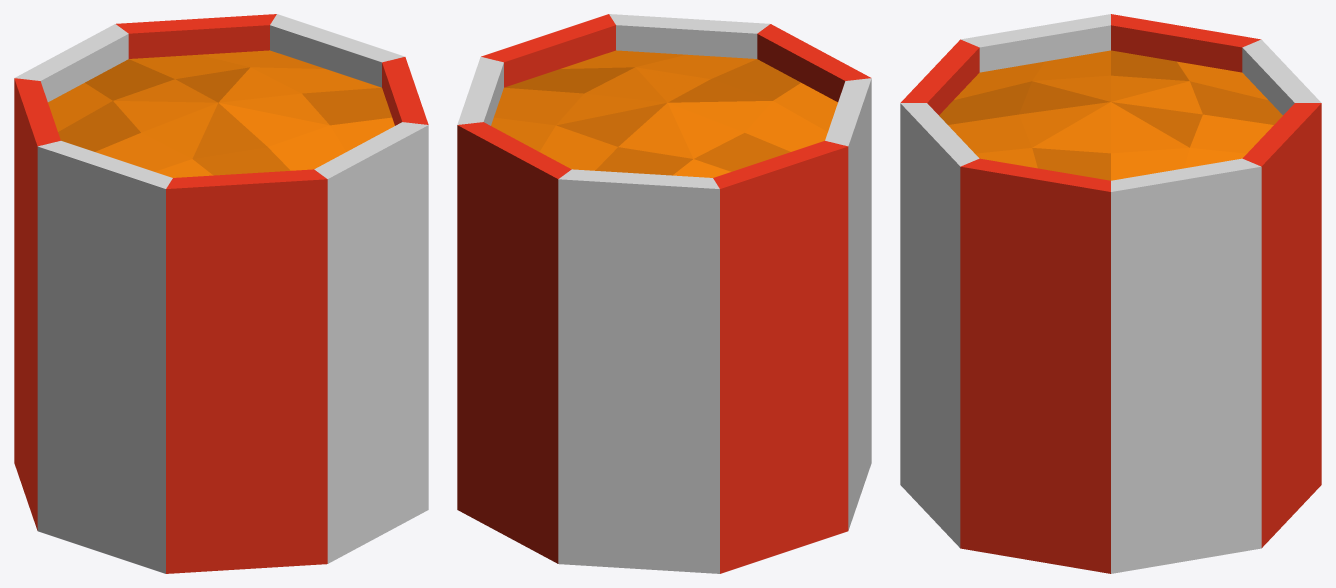
Rendered from Props_StorageRoom_FriedChicken.fbx.
The picture shows the model from 3 angles, left to right: view 1: azimuth 30°, elevation 25°; view 2: azimuth 150°, elevation 25°; view 3: azimuth 270°, elevation 25°; orthographic projection.
Visible parts, largest first — view 1: Cube; view 2: Cube; view 3: Cube.
Boxes of the visible parts, x1=… form: Cube: x1=14, y1=14, x2=428, y2=573; Cube: x1=457, y1=14, x2=871, y2=573; Cube: x1=900, y1=14, x2=1321, y2=573.
Bounding box in the file's own units: 200 × 208 × 200.
